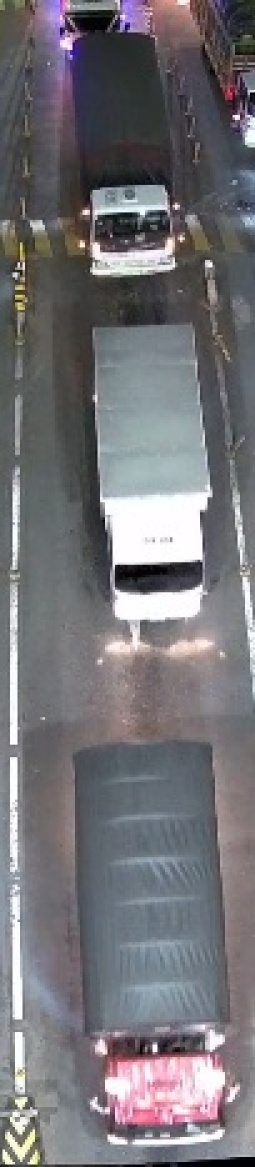truck: (72, 741, 237, 1143), (96, 317, 213, 624), (57, 46, 176, 255)
